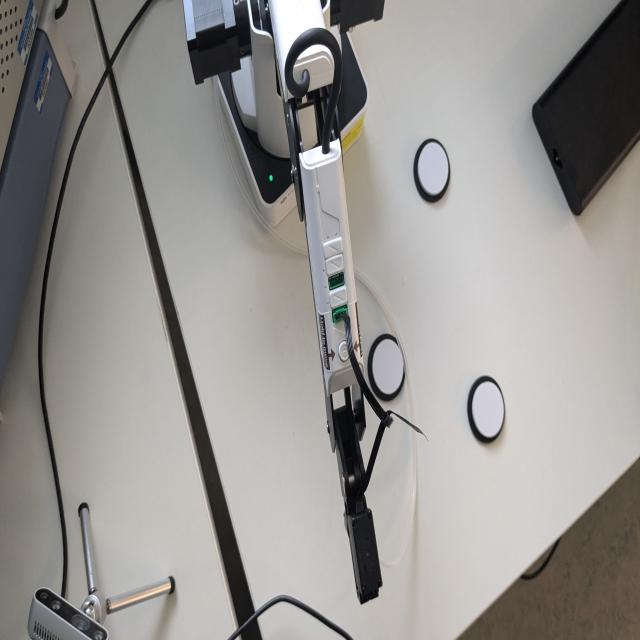Robot-end-effector-HF8z: (342, 502, 385, 605)
